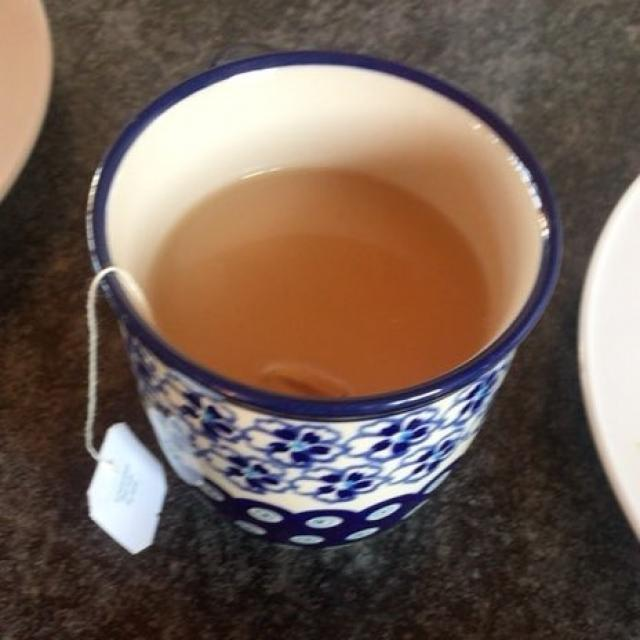tea: (140, 159, 512, 395)
